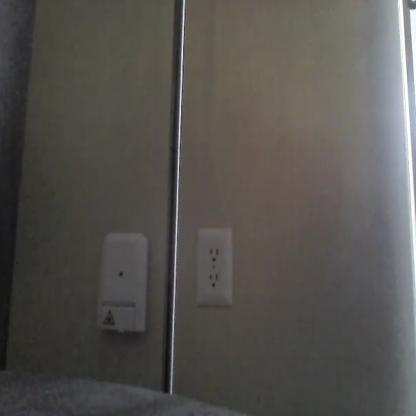OUTLET: (198, 228, 232, 305)
